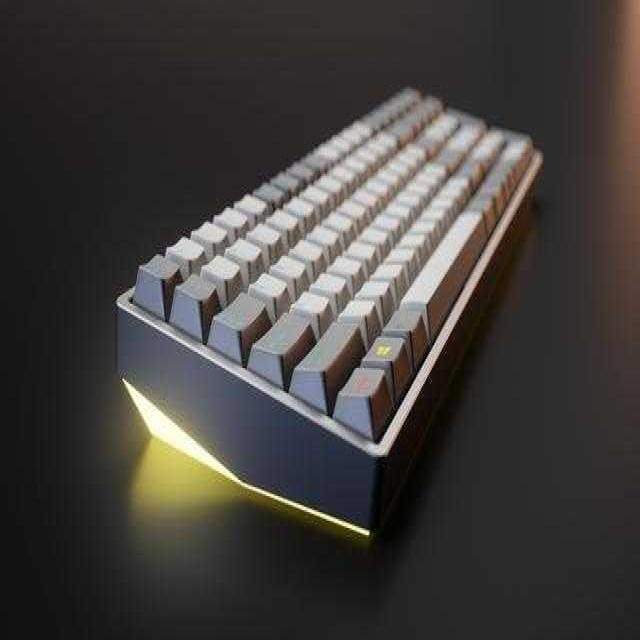keyboard: (107, 68, 547, 542)
